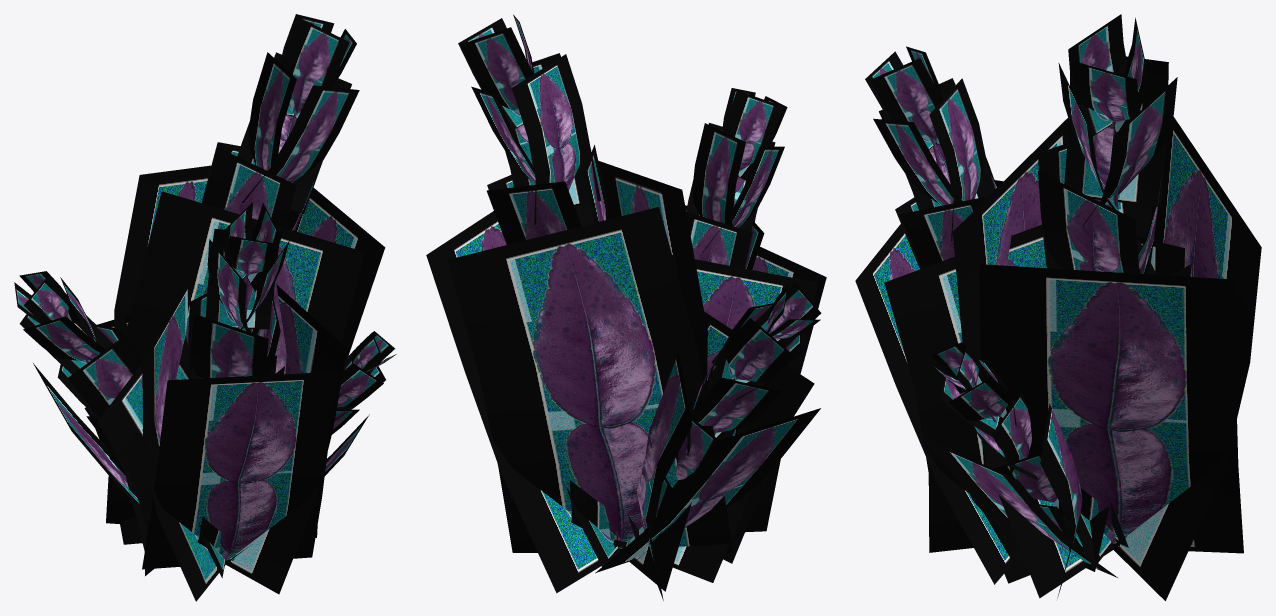
The model's file is vegetation2_3.FBX.
3 views of the same model, side by side, from view 1: azimuth 30°, elevation 25°; view 2: azimuth 150°, elevation 25°; view 3: azimuth 270°, elevation 25° (orthographic). The views are drawn at different scales.
Visible parts, largest first — view 1: plane; view 2: plane; view 3: plane.
Boxes of the visible parts, x1,y1,x2,y2 form: plane: (14, 14, 396, 601); plane: (426, 14, 826, 600); plane: (855, 14, 1261, 600).
Size of the model in its own units: 206 by 295 by 177.
2 materials, 2 textured.
